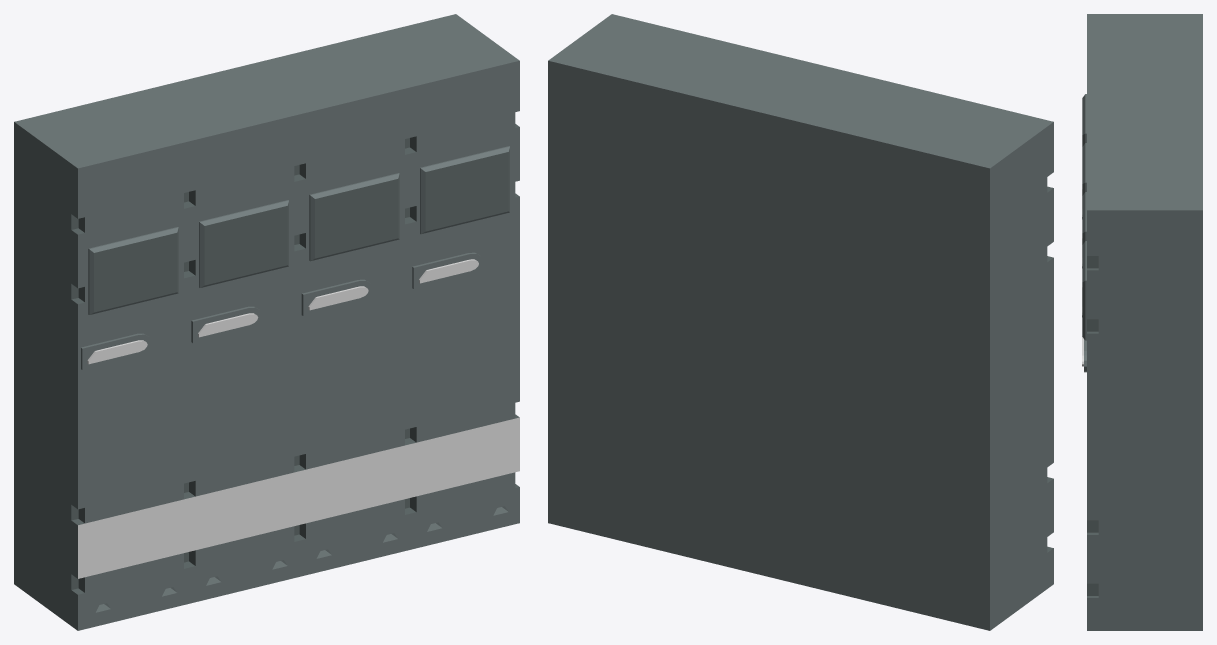
Rendered from Cabinet-2.fbx.
The picture shows the model from 3 angles, left to right: view 1: azimuth 30°, elevation 25°; view 2: azimuth 150°, elevation 25°; view 3: azimuth 270°, elevation 25°; orthographic projection. The views are drawn at different scales.
Visible parts, largest first — view 1: Cabinet-2-3, Cabinet-2-2, Cabinet-2-4, Cabinet-2-1; view 2: Cabinet-2-3, Cabinet-2-4, Cabinet-2-2, Cabinet-2-1; view 3: Cabinet-2-4, Cabinet-2-2, Cabinet-2-3, Cabinet-2-1.
Part boxes in pixels (left/top/right/bottom): Cabinet-2-3: left=14, top=95, right=188, bottom=630; Cabinet-2-2: left=235, top=41, right=409, bottom=576; Cabinet-2-4: left=346, top=14, right=519, bottom=549; Cabinet-2-1: left=125, top=68, right=298, bottom=603; Cabinet-2-3: left=879, top=95, right=1053, bottom=630; Cabinet-2-4: left=548, top=14, right=721, bottom=549; Cabinet-2-2: left=658, top=41, right=832, bottom=576; Cabinet-2-1: left=769, top=68, right=942, bottom=603; Cabinet-2-4: left=1082, top=161, right=1202, bottom=630; Cabinet-2-2: left=1082, top=112, right=1202, bottom=317; Cabinet-2-3: left=1082, top=14, right=1202, bottom=219; Cabinet-2-1: left=1082, top=63, right=1202, bottom=268.
Size of the model in its own units: 2.65 by 2.65 by 0.6901.
